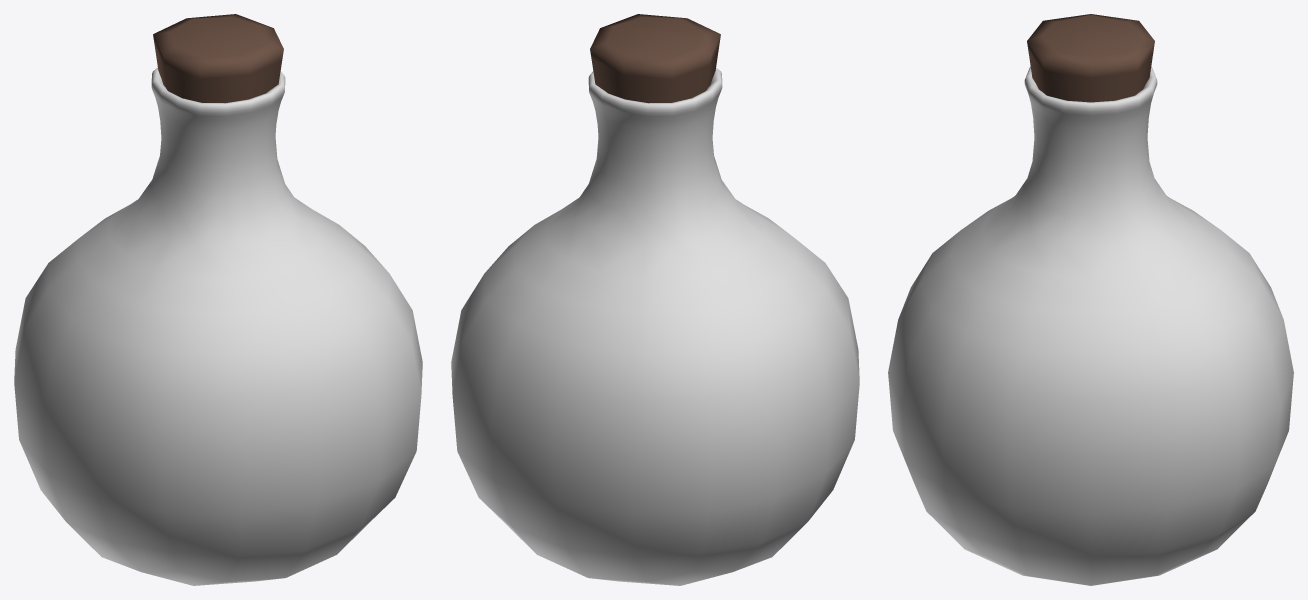
The model's file is potion1_empty.glb.
3 views of the same model, side by side, from view 1: azimuth 30°, elevation 25°; view 2: azimuth 150°, elevation 25°; view 3: azimuth 270°, elevation 25° (orthographic).
Visible parts, largest first — view 1: Potion1_Empty; view 2: Potion1_Empty; view 3: Potion1_Empty.
Part boxes in pixels (x1,y1,x2,y2): Potion1_Empty: [14, 14, 422, 585]; Potion1_Empty: [451, 14, 859, 585]; Potion1_Empty: [888, 14, 1293, 585].
Size of the model in its own units: 0.6685 by 0.9629 by 0.6685.
